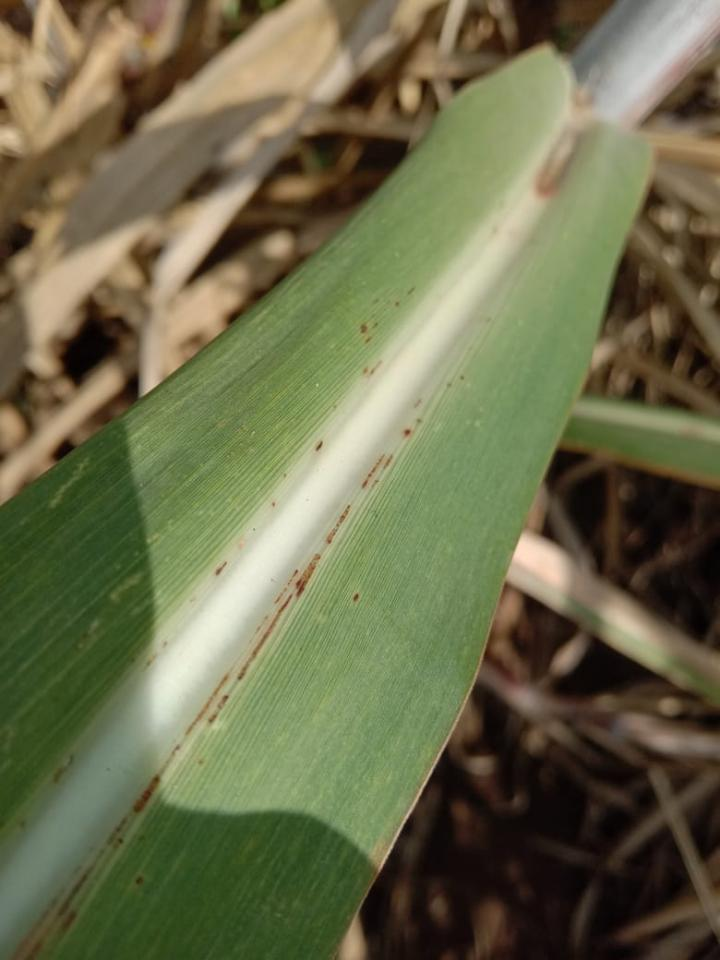RedRot: (533, 128, 582, 197)
Rust: (237, 592, 293, 680), (9, 897, 59, 959), (185, 674, 229, 736), (57, 873, 88, 916), (295, 553, 321, 599), (133, 773, 160, 812), (325, 504, 350, 544), (274, 569, 298, 604), (24, 927, 50, 959), (362, 453, 385, 488), (53, 753, 74, 784), (208, 693, 229, 723), (107, 817, 127, 846), (62, 912, 76, 930), (369, 359, 383, 376), (215, 561, 228, 577), (383, 454, 393, 470), (147, 654, 158, 667), (315, 439, 324, 452), (405, 286, 415, 296), (359, 324, 369, 334), (134, 874, 142, 885), (413, 397, 421, 407), (403, 428, 412, 436), (172, 744, 180, 753), (254, 624, 261, 634), (365, 336, 373, 344), (262, 614, 270, 622), (353, 592, 359, 602), (162, 640, 168, 650), (457, 374, 465, 381), (372, 480, 379, 488), (19, 819, 25, 828), (371, 322, 379, 328), (416, 418, 423, 424), (117, 837, 123, 844), (197, 760, 205, 765), (394, 302, 401, 307), (446, 382, 453, 387), (363, 367, 368, 373), (375, 298, 379, 304), (271, 501, 275, 507)
